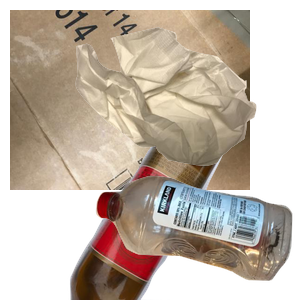cardboard: (10, 10, 250, 190)
glass: (67, 120, 282, 300)
plastic: (93, 173, 300, 300)
trash: (73, 25, 300, 183)
